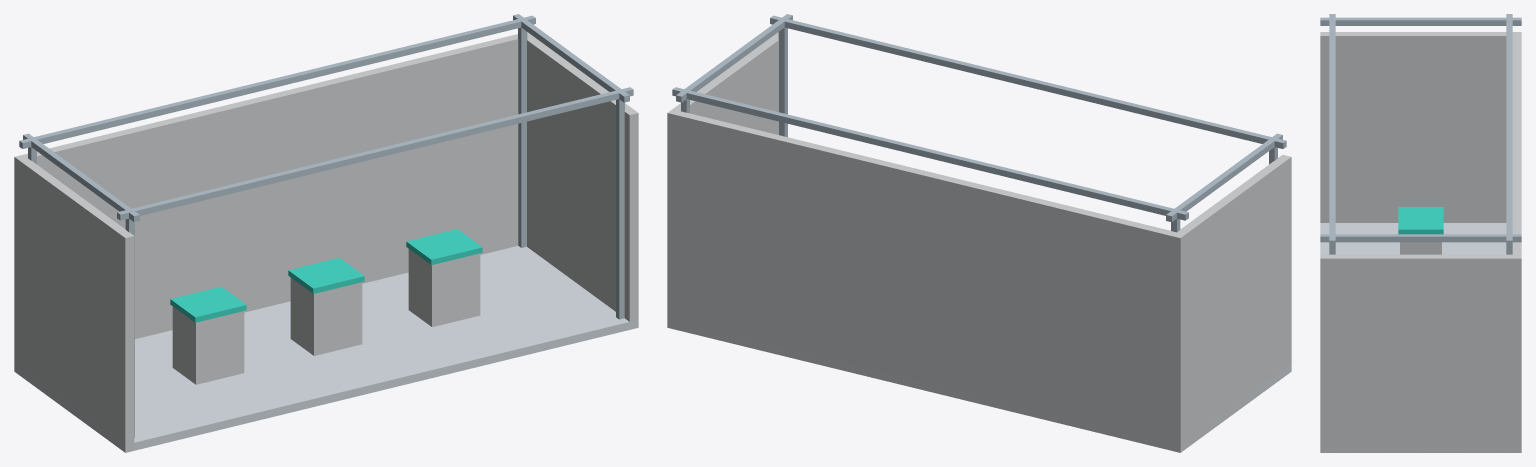
The picture shows the model from 3 angles, left to right: view 1: azimuth 30°, elevation 25°; view 2: azimuth 150°, elevation 25°; view 3: azimuth 270°, elevation 25°; orthographic projection. The views are drawn at different scales.
Parts seen in each view (by area): view 1: Exhibition Booth Concept; view 2: Exhibition Booth Concept; view 3: Exhibition Booth Concept.
Boxes of the visible parts, x1=… form: Exhibition Booth Concept: x1=14, y1=14, x2=638, y2=452; Exhibition Booth Concept: x1=667, y1=14, x2=1291, y2=452; Exhibition Booth Concept: x1=1320, y1=14, x2=1521, y2=452.
Size of the model in its own units: 8 by 3.49 by 3.
